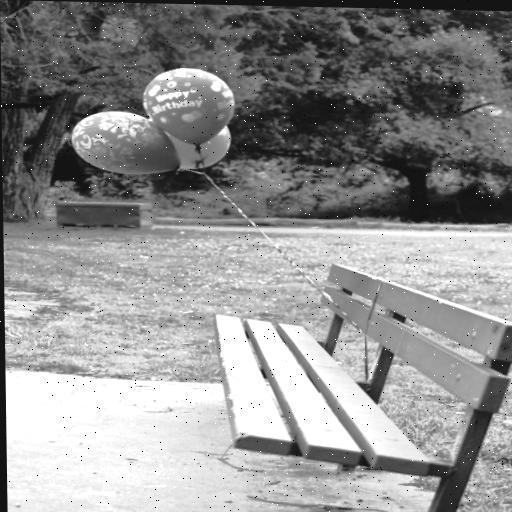balloon: (73, 110, 176, 175), (142, 68, 233, 141), (172, 123, 238, 170)
